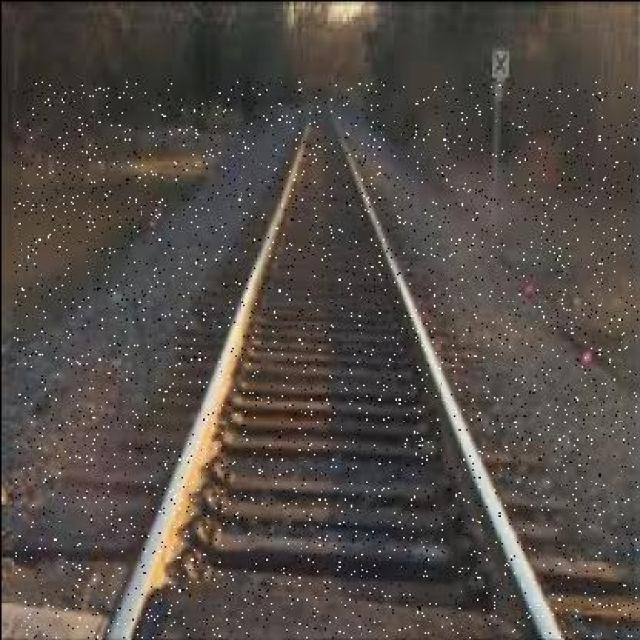rail: (14, 81, 638, 638)
